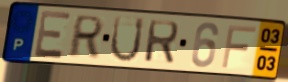6: (190, 21, 220, 69)
E: (33, 9, 74, 61)
F: (219, 23, 258, 70)
R: (66, 13, 106, 59), (142, 19, 181, 66)
U: (108, 14, 146, 64)
